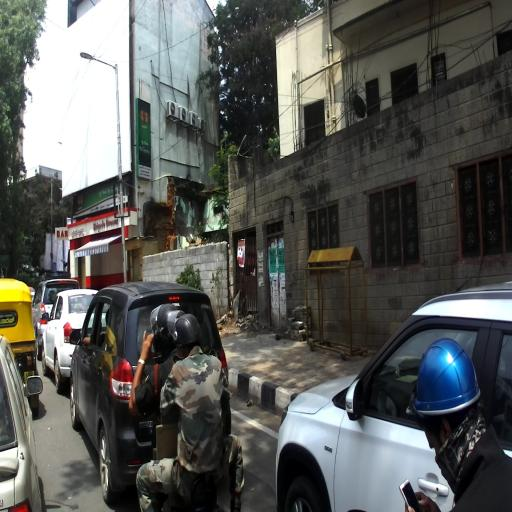street_light_0: (80, 50, 117, 72)
